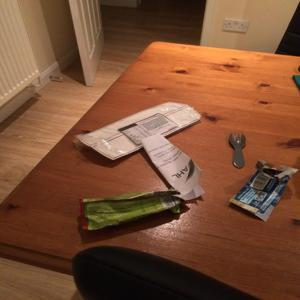cardboard: (77, 99, 206, 164)
metal: (226, 126, 249, 175)
paper: (79, 187, 188, 238), (138, 133, 210, 206), (231, 159, 296, 226)
